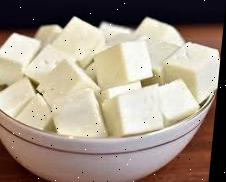cube: (160, 43, 223, 99), (96, 40, 156, 86)
